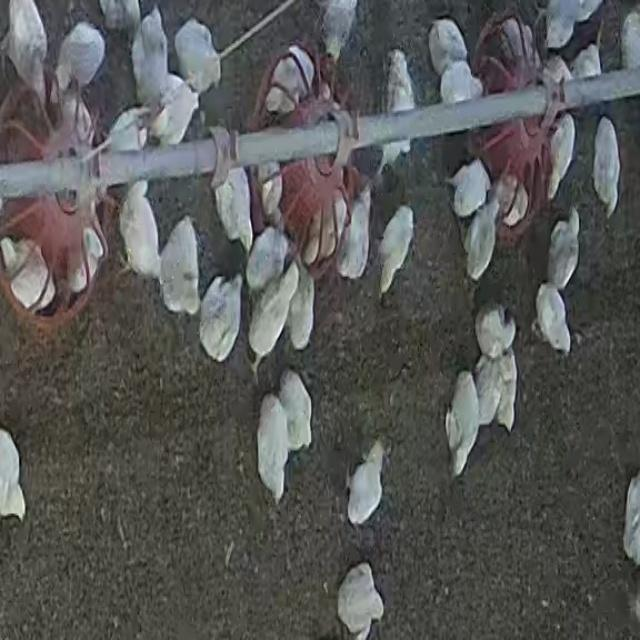chicken: (247, 262, 300, 369), (158, 212, 204, 321), (118, 181, 164, 284), (0, 236, 60, 312), (442, 368, 481, 480), (339, 438, 387, 528), (172, 15, 222, 99), (54, 17, 108, 93), (1, 0, 48, 85), (256, 392, 292, 502), (198, 274, 243, 362), (213, 162, 256, 253), (261, 40, 315, 111), (147, 79, 201, 149), (376, 202, 416, 296), (301, 189, 348, 267), (337, 562, 384, 638), (336, 188, 373, 282), (463, 196, 502, 282), (474, 350, 514, 433), (245, 225, 289, 293), (278, 370, 314, 453), (592, 117, 621, 220), (545, 114, 577, 205), (547, 210, 581, 292), (447, 157, 491, 219), (65, 227, 103, 296), (534, 284, 570, 355), (427, 18, 468, 80), (498, 13, 542, 68), (289, 266, 318, 348)
